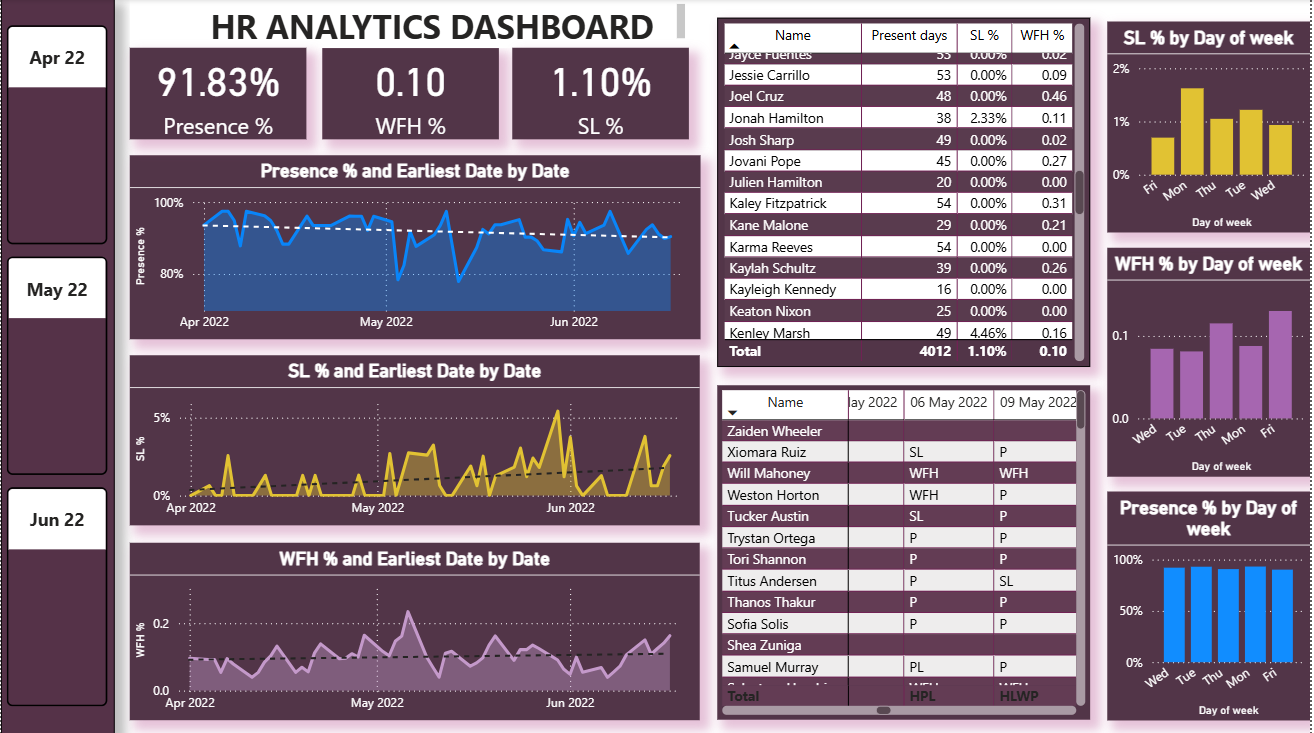

The dashboard page shown, as its layout file describes it:
{"tool":"powerbi","page":{"name":"Page 1","canvas":[1280,720],"ordinal":0},"visuals":[{"type":"cardVisual","fields":{"Rows":["Final_Data.1 Month"]},"box":[0,0,111.3,720.2],"z":0},{"type":"card","fields":{"Values":["Measure Table.WFH %"]},"box":[314.5,47.6,173.1,89.5],"z":1000},{"type":"tableEx","fields":{"Values":["Final_Data.Name","Measure Table.Present days","Measure Table.SL %","Measure Table.WFH %"]},"box":[701.2,18.8,365,341.9],"z":2000},{"type":"textbox","box":[126,0,547.8,47.7],"z":3000},{"type":"pivotTable","fields":{"Rows":["Final_Data.Name"],"Values":["Final_Data.Value"],"Columns":["Final_Data.Date"]},"box":[701.2,378,365,327.5],"z":4000},{"type":"areaChart","fields":{"Y":["Measure Table.Presence %"],"Category":["Final_Data.Date"]},"box":[125.5,152.9,558.3,180.3],"z":5000},{"type":"areaChart","fields":{"Category":["Final_Data.Date"],"Y":["Measure Table.SL %"]},"box":[126,348.5,557.6,166.3],"z":6000},{"type":"areaChart","fields":{"Category":["Final_Data.Date"],"Y":["Measure Table.WFH %"]},"box":[126,531.9,557.6,173.6],"z":7000},{"type":"lineStackedColumnComboChart","fields":{"Category":["Final_Data.Day of week"],"Y":["Measure Table.Presence %"]},"box":[1082.2,481.8,198.1,223.8],"z":8000},{"type":"lineStackedColumnComboChart","fields":{"Category":["Final_Data.Day of week"],"Y":["Measure Table.WFH %"]},"box":[1082.2,243.3,198.1,223.8],"z":9000},{"type":"lineStackedColumnComboChart","fields":{"Category":["Final_Data.Day of week"],"Y":["Measure Table.SL %"]},"box":[1082.2,22,198.1,206.7],"z":10000},{"type":"card","fields":{"Values":["Measure Table.Presence %"]},"box":[125.5,47.6,173.1,89.5],"z":11000},{"type":"card","fields":{"Values":["Measure Table.SL %"]},"box":[500.6,47.6,173.1,89.5],"z":12000}]}

Visuals, with their boxes in screenshot pixels (x1, y1, x2, y2), scaled from the page's 1280x720 canvas onto the 1314x733 screenshot:
cardVisual - Final_Data.1 Month: x1=0, y1=0, x2=114, y2=732
card - Measure Table.WFH %: x1=323, y1=48, x2=501, y2=140
tableEx - Final_Data.Name x Measure Table.Present days: x1=720, y1=19, x2=1095, y2=367
textbox: x1=129, y1=0, x2=692, y2=49
pivotTable - Final_Data.Name x Final_Data.Value: x1=720, y1=385, x2=1095, y2=718
areaChart - Measure Table.Presence % x Final_Data.Date: x1=129, y1=156, x2=702, y2=339
areaChart - Final_Data.Date x Measure Table.SL %: x1=129, y1=355, x2=702, y2=524
areaChart - Final_Data.Date x Measure Table.WFH %: x1=129, y1=542, x2=702, y2=718
lineStackedColumnComboChart - Final_Data.Day of week x Measure Table.Presence %: x1=1111, y1=490, x2=1313, y2=718
lineStackedColumnComboChart - Final_Data.Day of week x Measure Table.WFH %: x1=1111, y1=248, x2=1313, y2=476
lineStackedColumnComboChart - Final_Data.Day of week x Measure Table.SL %: x1=1111, y1=22, x2=1313, y2=233
card - Measure Table.Presence %: x1=129, y1=48, x2=307, y2=140
card - Measure Table.SL %: x1=514, y1=48, x2=692, y2=140
